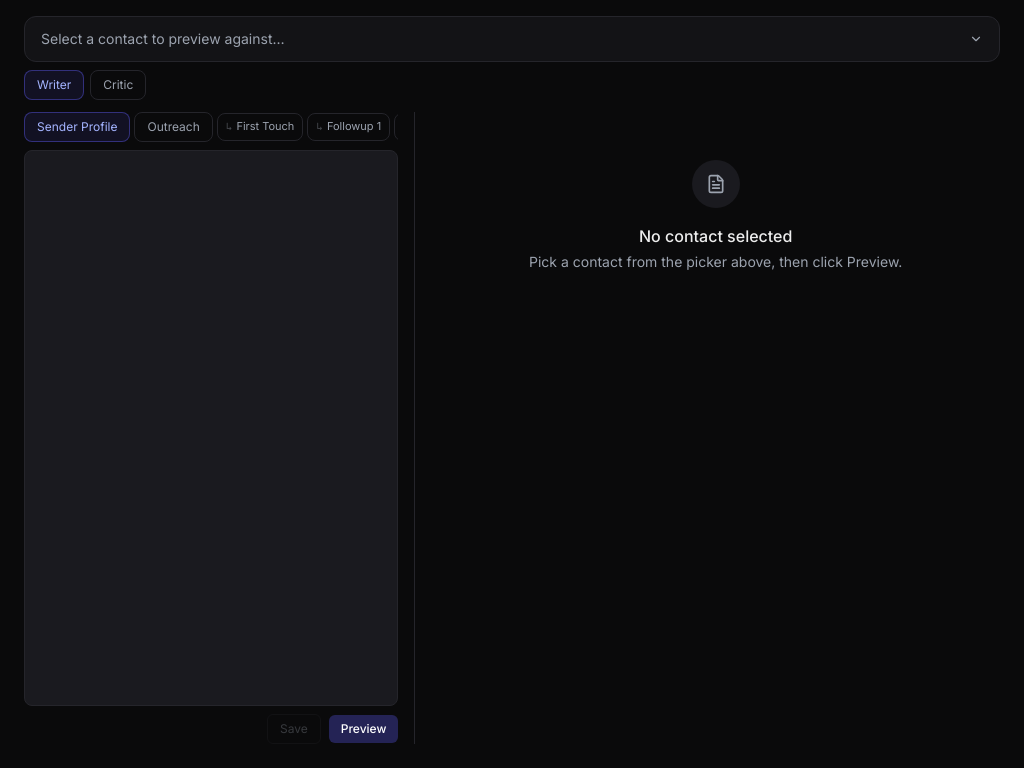
Scenario: LabRoot › shows preview after Preview button click with a contact selected
Note: Open picker and select contact
Click the button with test id "contact-picker-toggle": (163, 38) [24,16,1000,62]
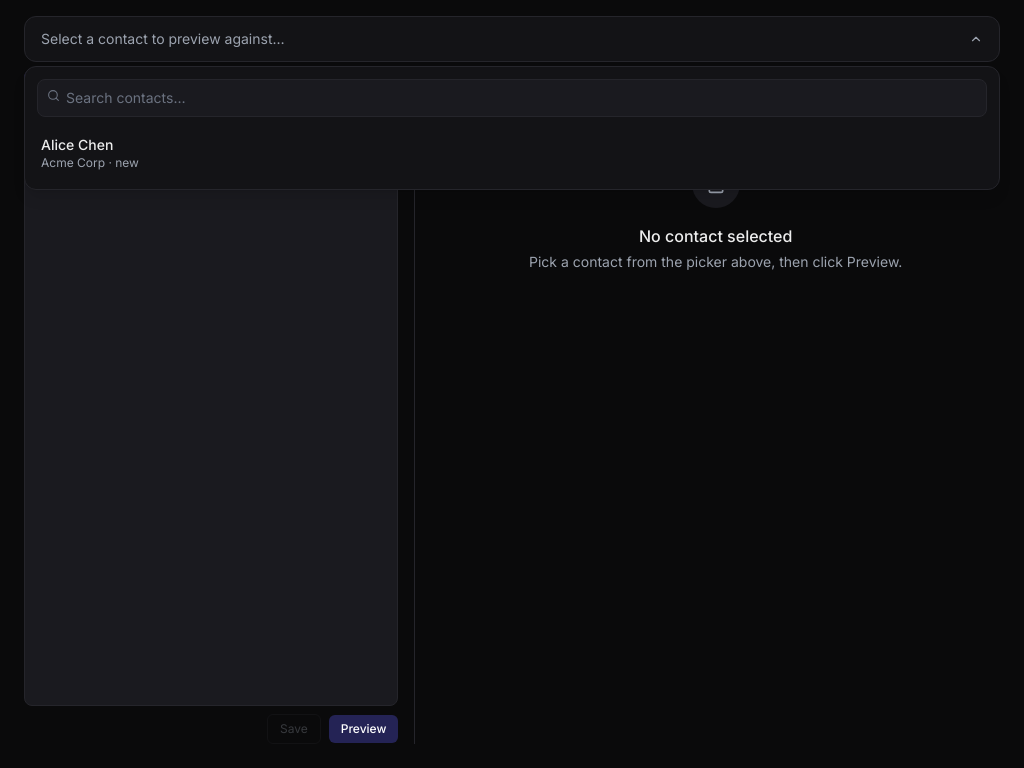
Expected: the text "Alice Chen" is shown
Click the text "Alice Chen": (77, 144) [41,136,113,153]
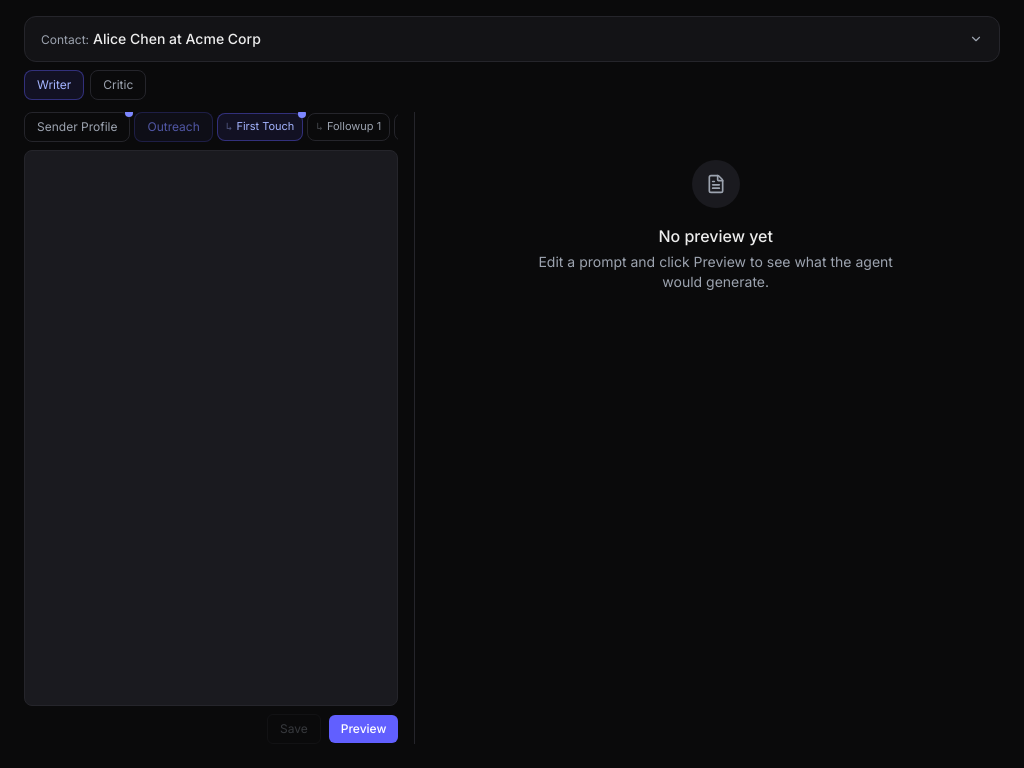
Expected: the field with placeholder "search contacts" is not shown
Expected: the button "Preview" is enabled
Note: Click preview
Click the button "Preview": (364, 729) [329,715,398,743]
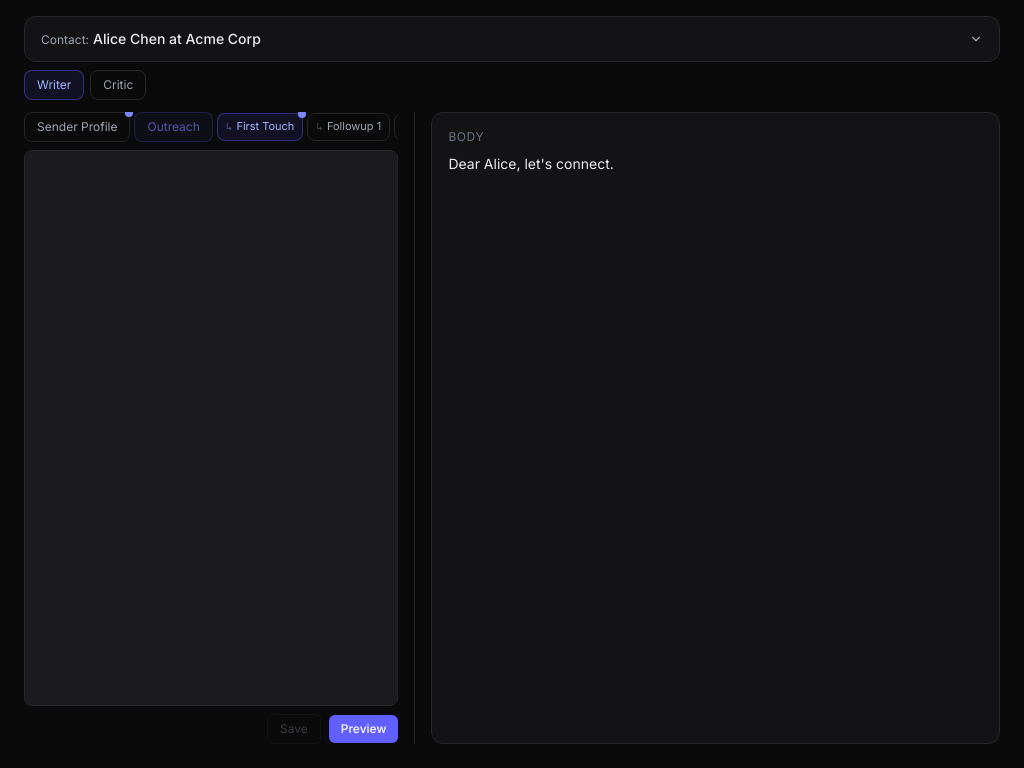
Expected: the text "Dear Alice, let's connect." is shown, [448,155,614,172]
